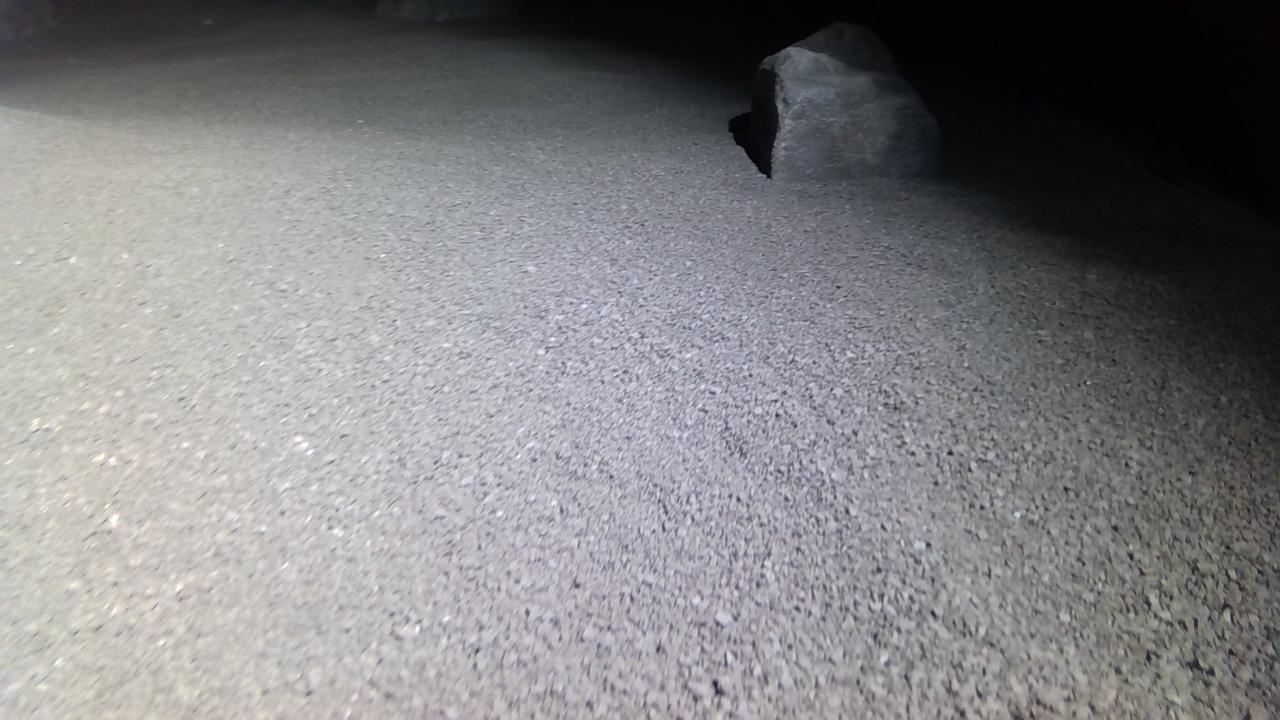rock: (751, 23, 942, 179), (376, 0, 514, 20), (0, 0, 54, 40)
